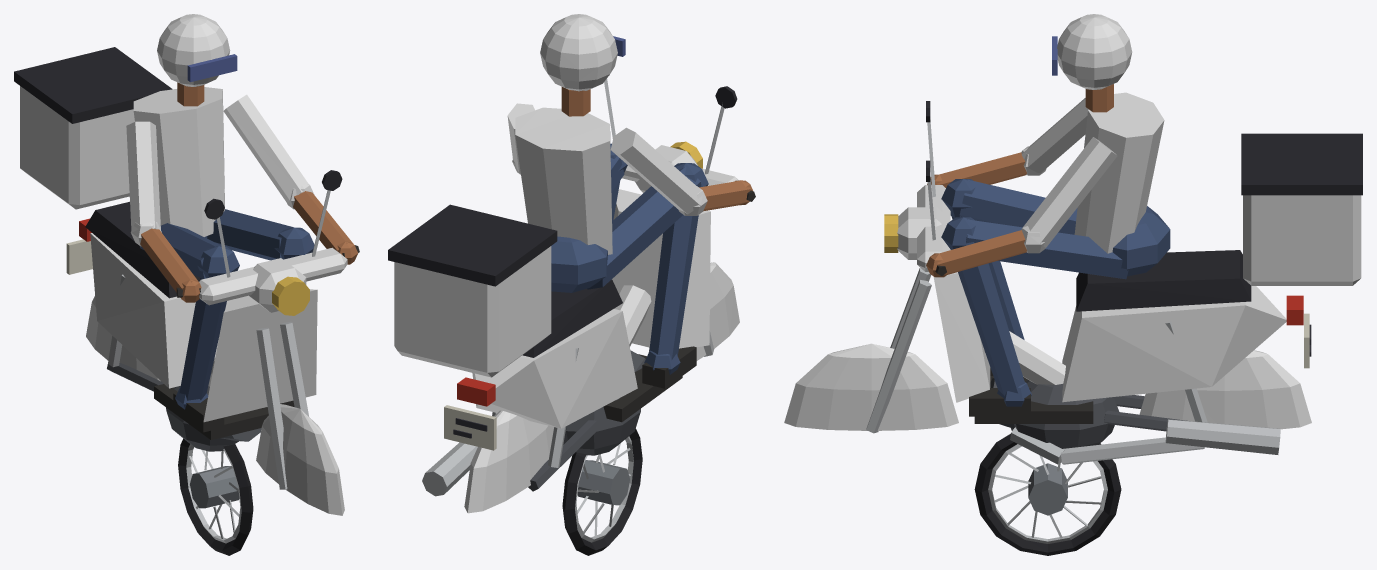
The model's file is scooter.glb.
3 views of the same model, side by side, from view 1: azimuth 30°, elevation 25°; view 2: azimuth 150°, elevation 25°; view 3: azimuth 270°, elevation 25° (orthographic). The views are drawn at different scales.
Parts seen in each view (by area): view 1: paint, body, wheel0, lights; view 2: paint, body, wheel0, lights; view 3: paint, body, wheel0, lights.
Boxes of the visible parts, left/top/right/bottom form: paint: left=20, top=14, right=347, bottom=515; body: left=14, top=47, right=359, bottom=489; wheel0: left=178, top=438, right=253, bottom=555; lights: left=79, top=218, right=309, bottom=315; paint: left=394, top=14, right=739, bottom=513; body: left=388, top=36, right=755, bottom=496; wheel0: left=562, top=428, right=642, bottom=555; lights: left=457, top=141, right=702, bottom=406; paint: left=784, top=14, right=1361, bottom=430; body: left=866, top=36, right=1362, bottom=464; wheel0: left=974, top=433, right=1121, bottom=555; lights: left=884, top=214, right=1303, bottom=325.
Size of the model in its own units: 0.7736 by 2.1 by 2.05.
